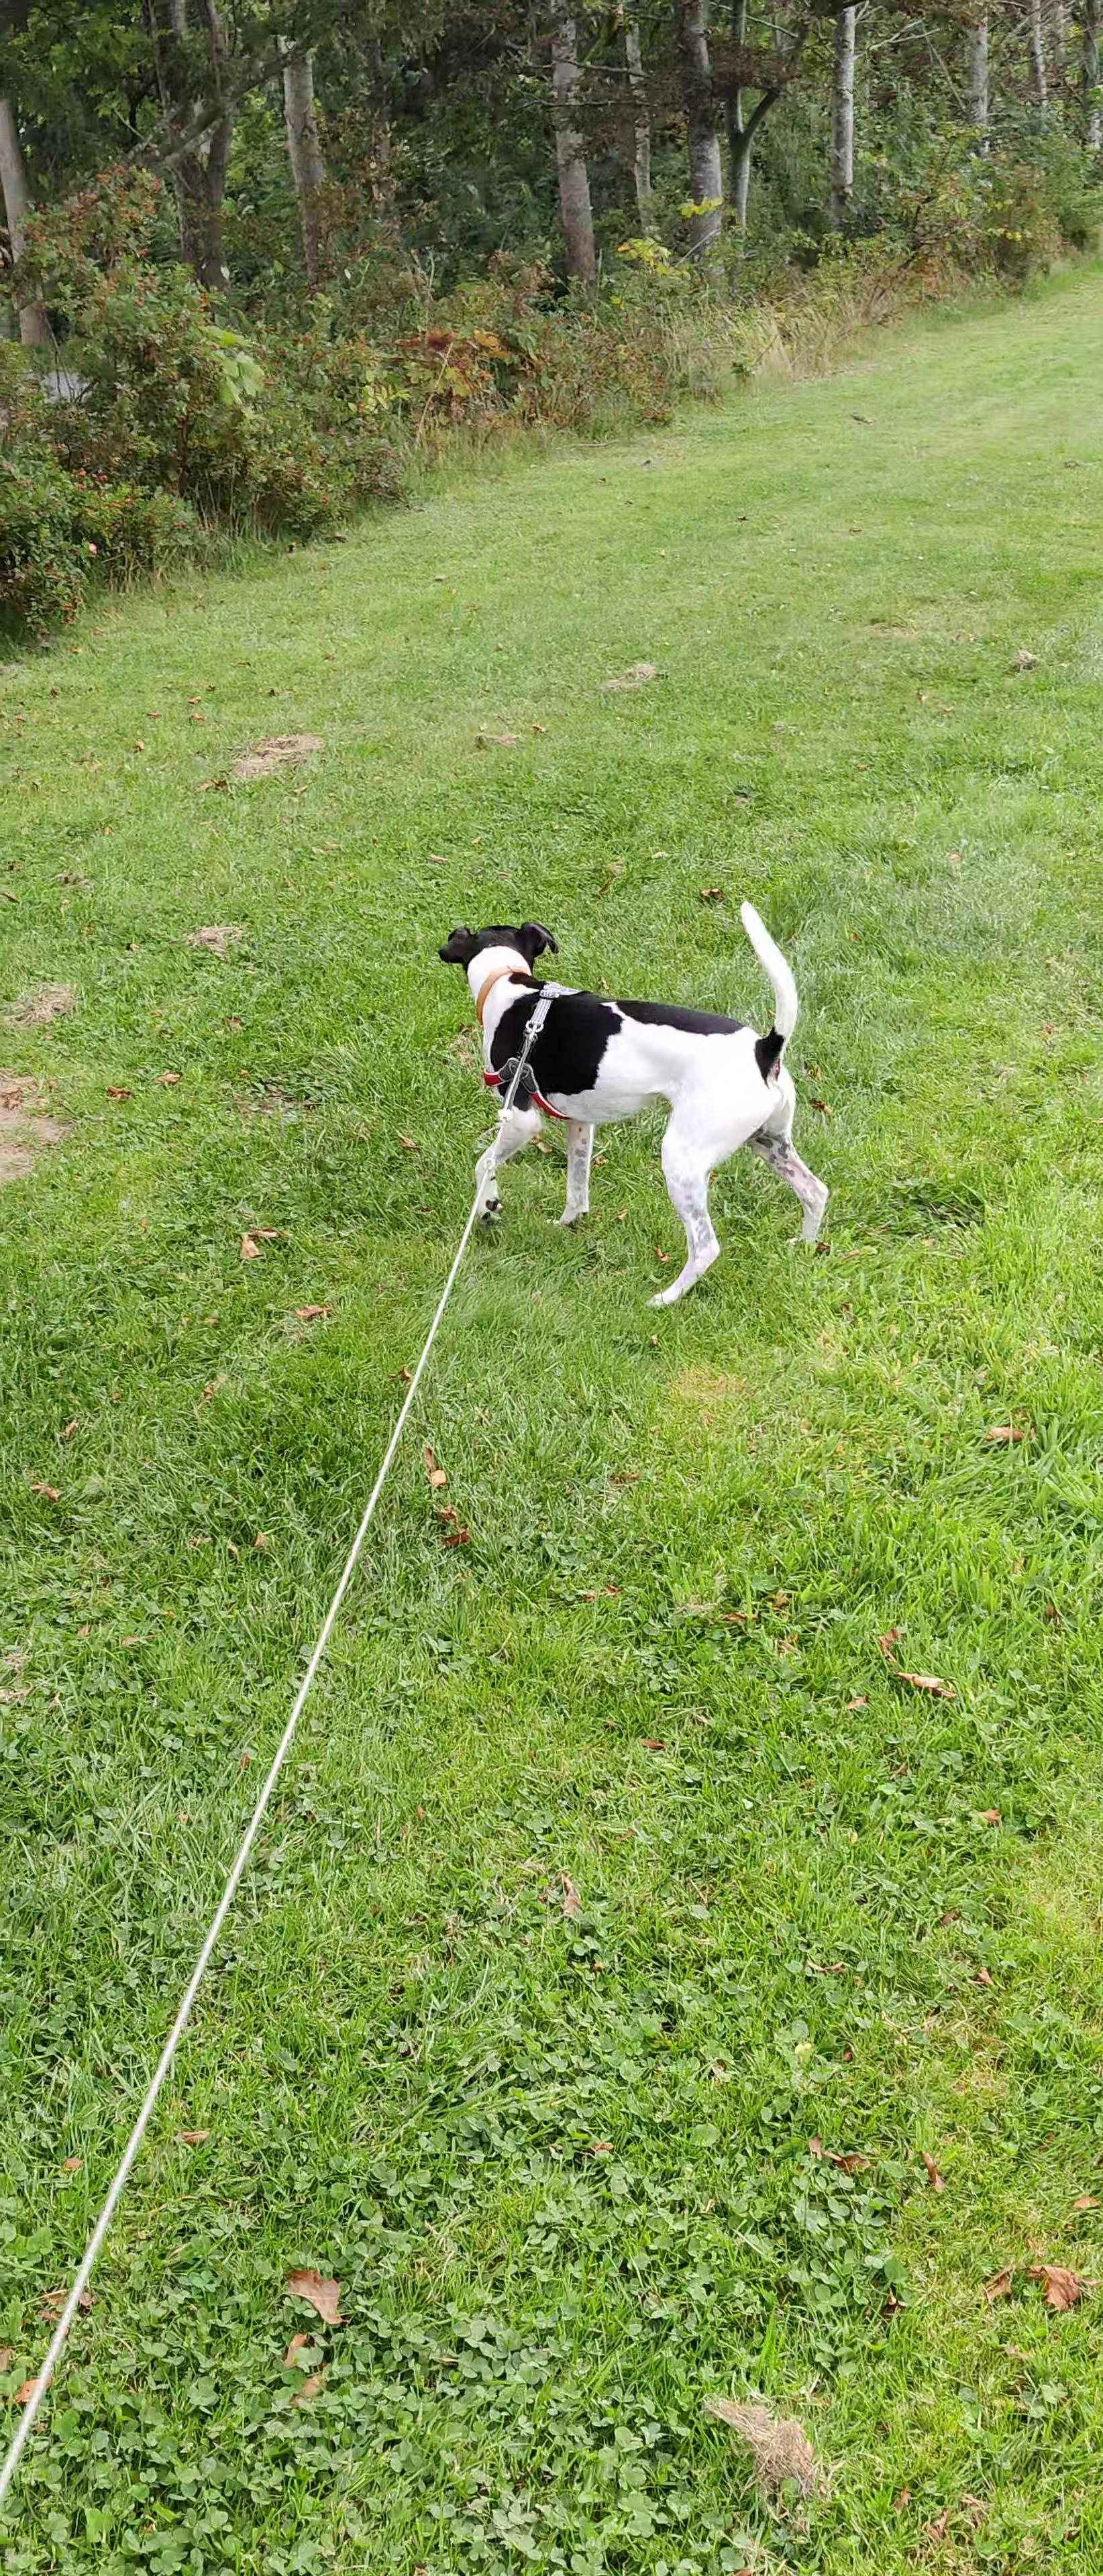Dog: (434, 895, 832, 1308)
